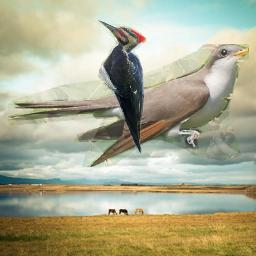Cuckoo: (8, 44, 249, 167)
Woodpecker: (96, 19, 147, 154)
